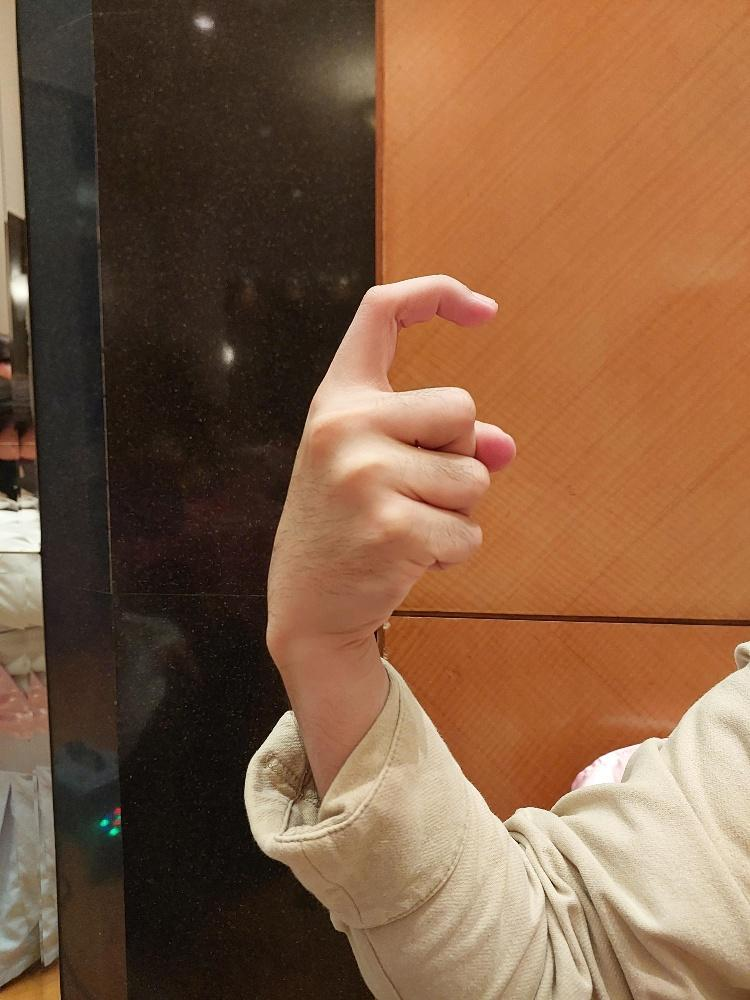x: (260, 270, 520, 645)
